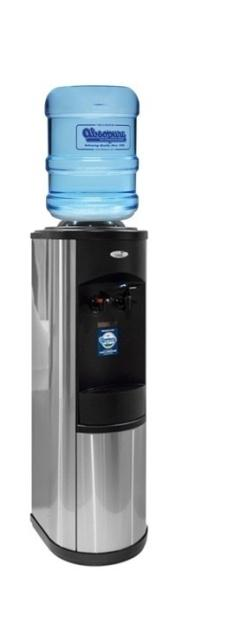Dispenser: (30, 85, 147, 566)
